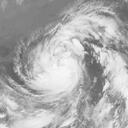cyclone: (13, 29, 95, 103)
